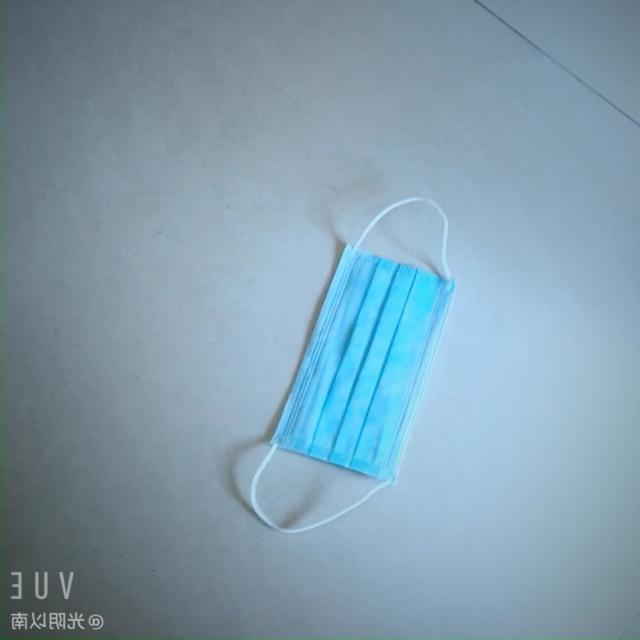face mask: (256, 233, 453, 491)
